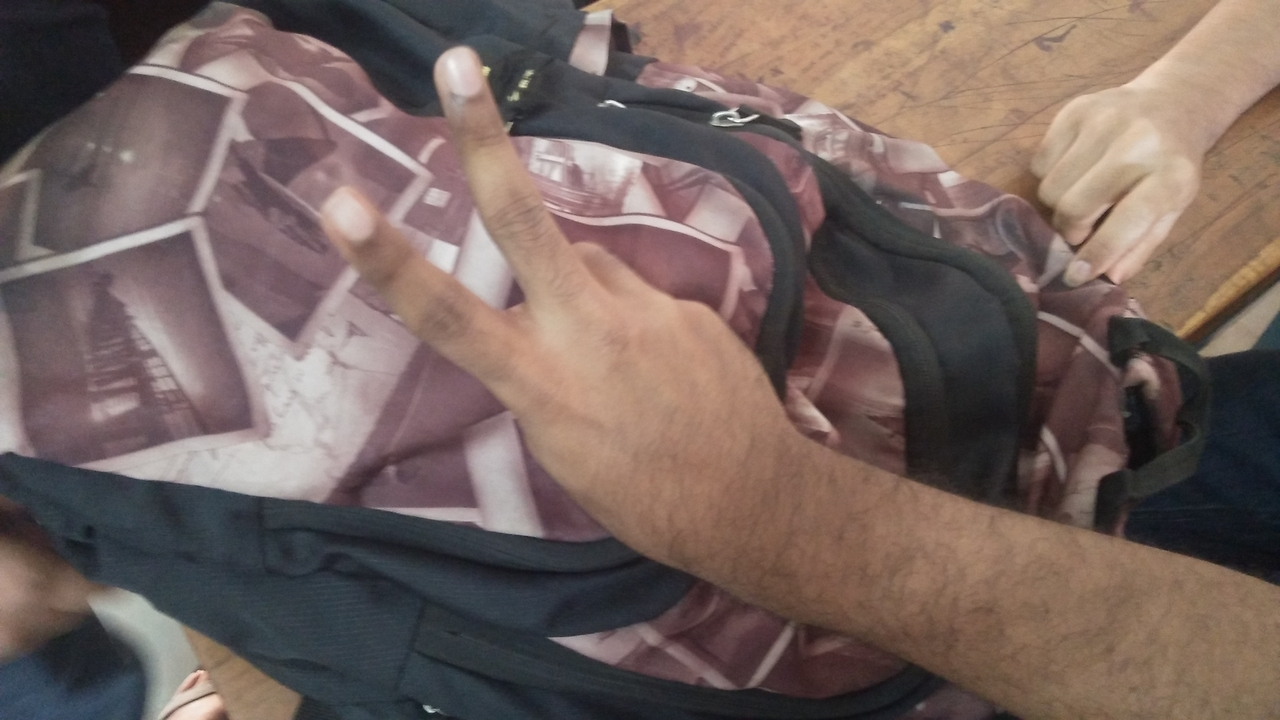fingertip: (422, 36, 490, 110), (311, 187, 382, 243)
